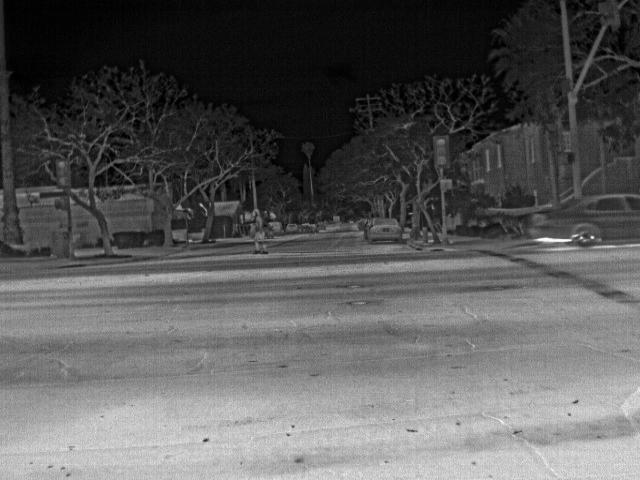car: (526, 190, 640, 248), (365, 216, 404, 244), (269, 220, 286, 236), (286, 222, 302, 236), (300, 223, 315, 235), (312, 222, 325, 232)
person: (253, 206, 268, 256)
